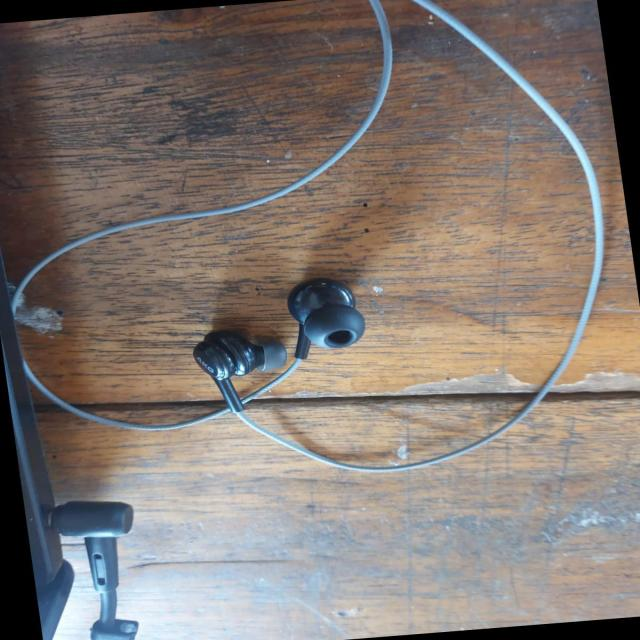earphone: (51, 24, 592, 590)
